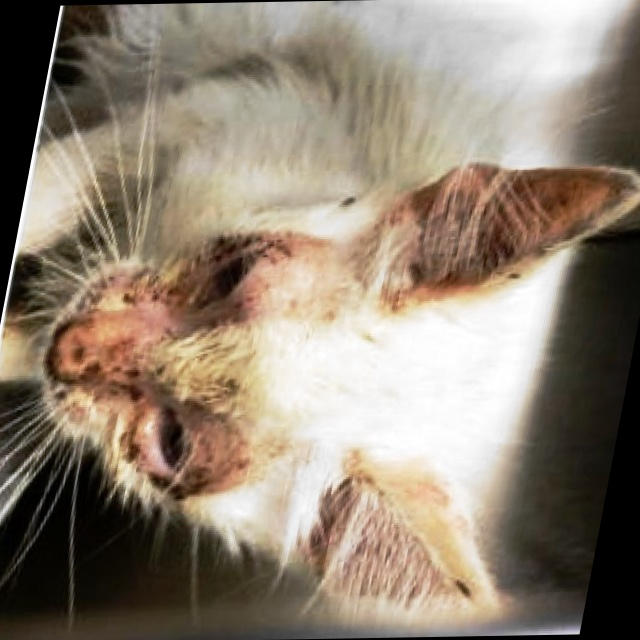ringworm: (216, 246, 314, 331), (73, 326, 165, 403), (181, 421, 269, 501), (132, 268, 212, 311)
